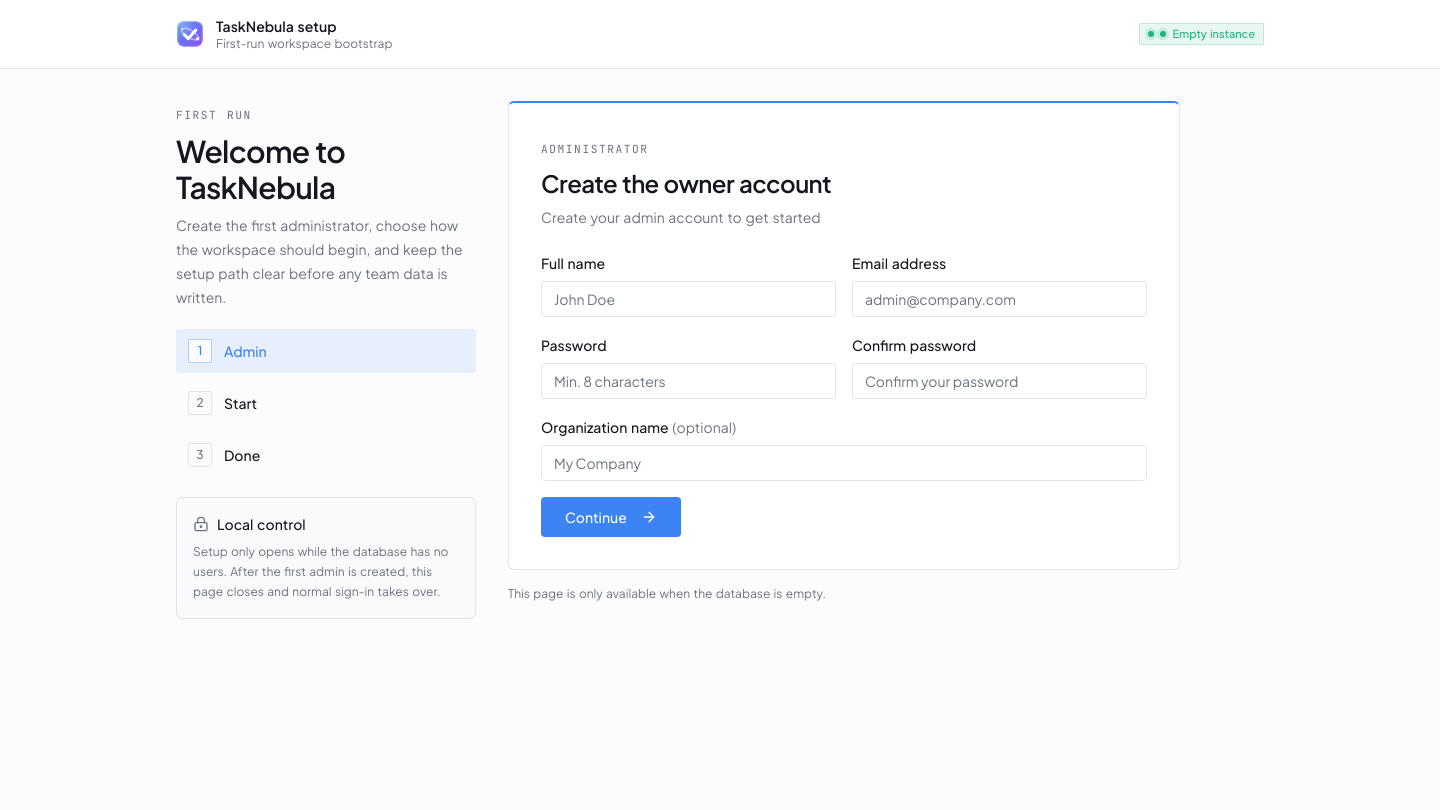
Test: SetupPage › shows an error when passwords do not match
The image size is (1440, 810).
Step 1. Type "Ada Lovelace" into the field labelled "Full name" → [688, 299], box x1=541 y1=281 x2=836 y2=317
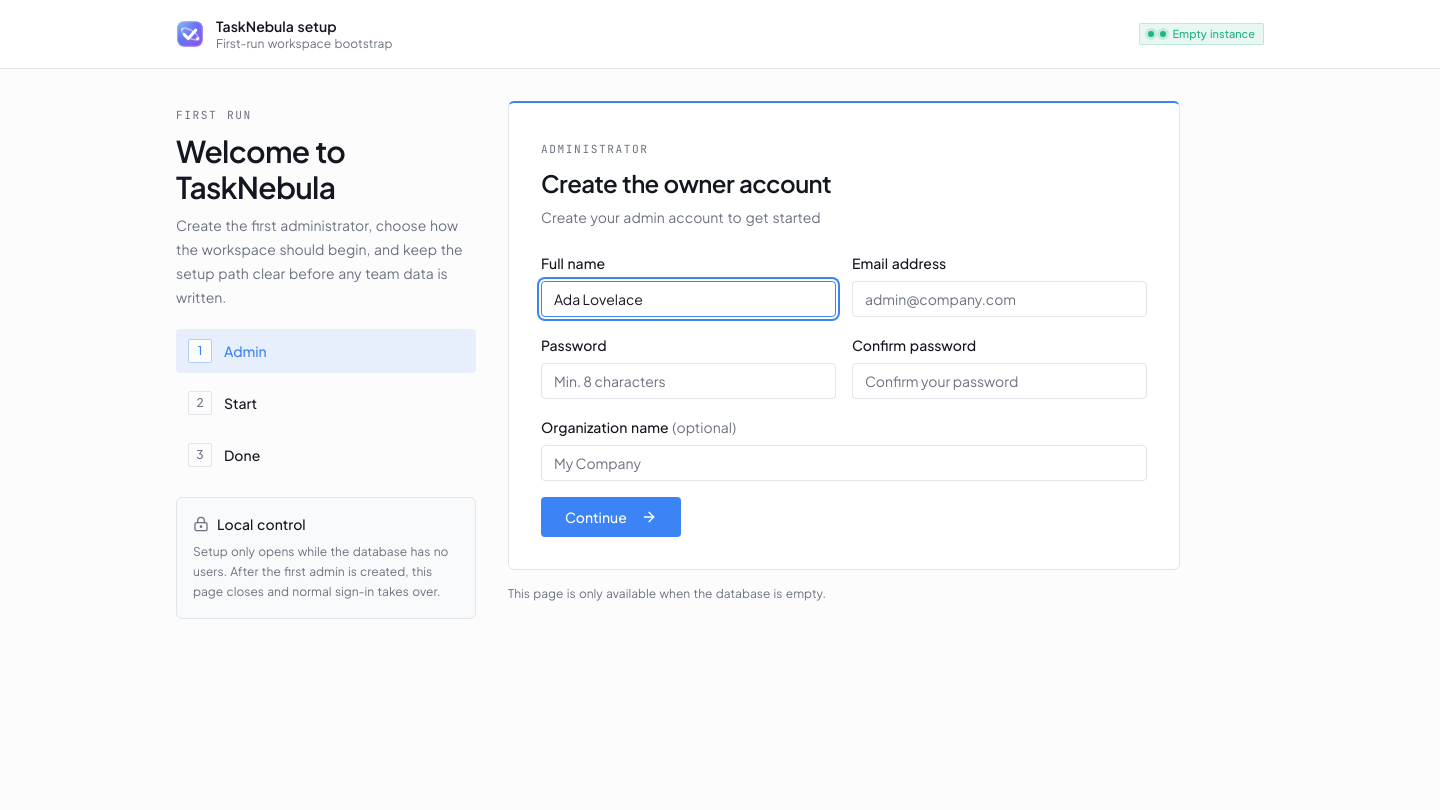
Step 2. Type "ada@example.com" into the field labelled "Email address" → [1000, 299], box x1=852 y1=281 x2=1147 y2=317
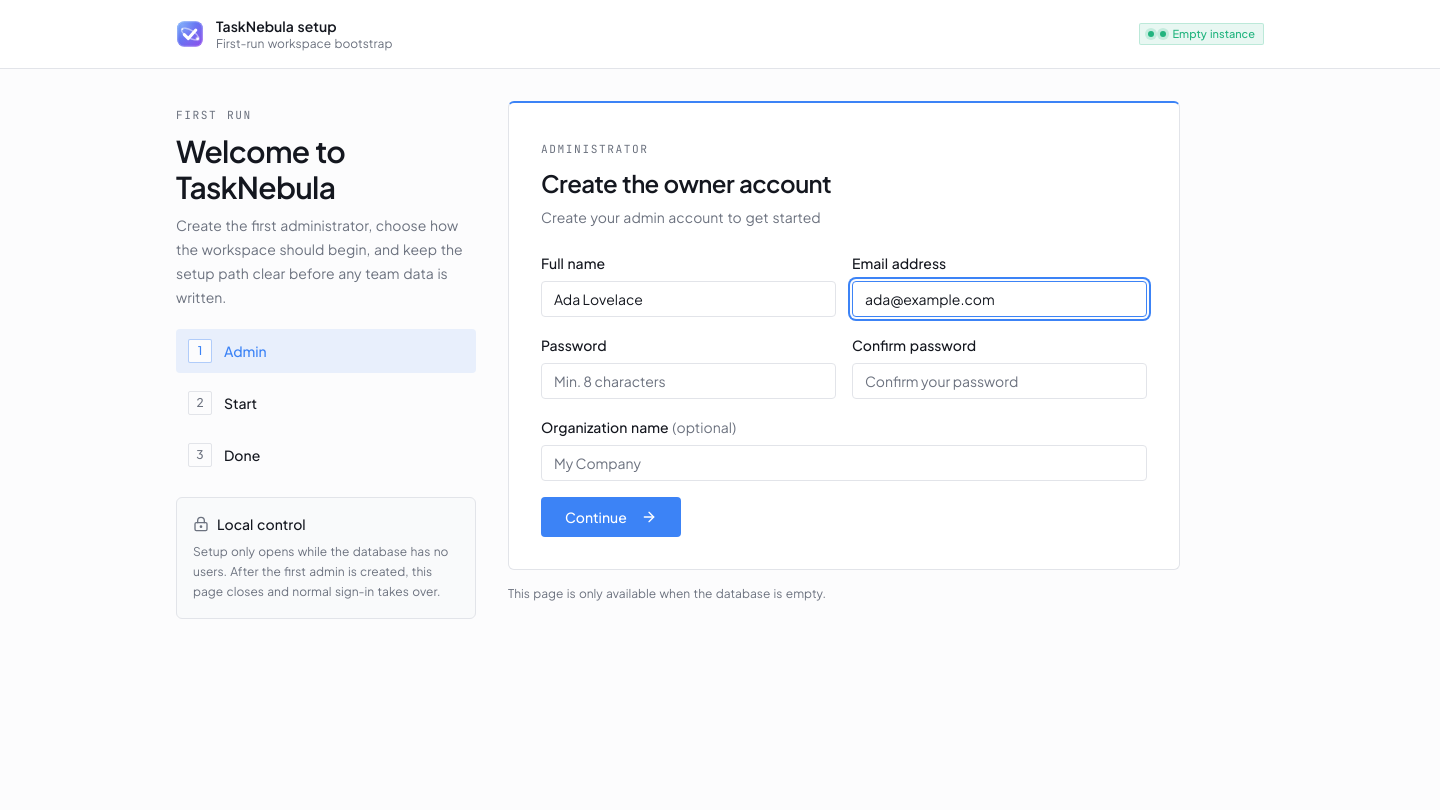
Step 3. Type "password1" into the password field labelled "Password" → [688, 381], box x1=541 y1=363 x2=836 y2=399
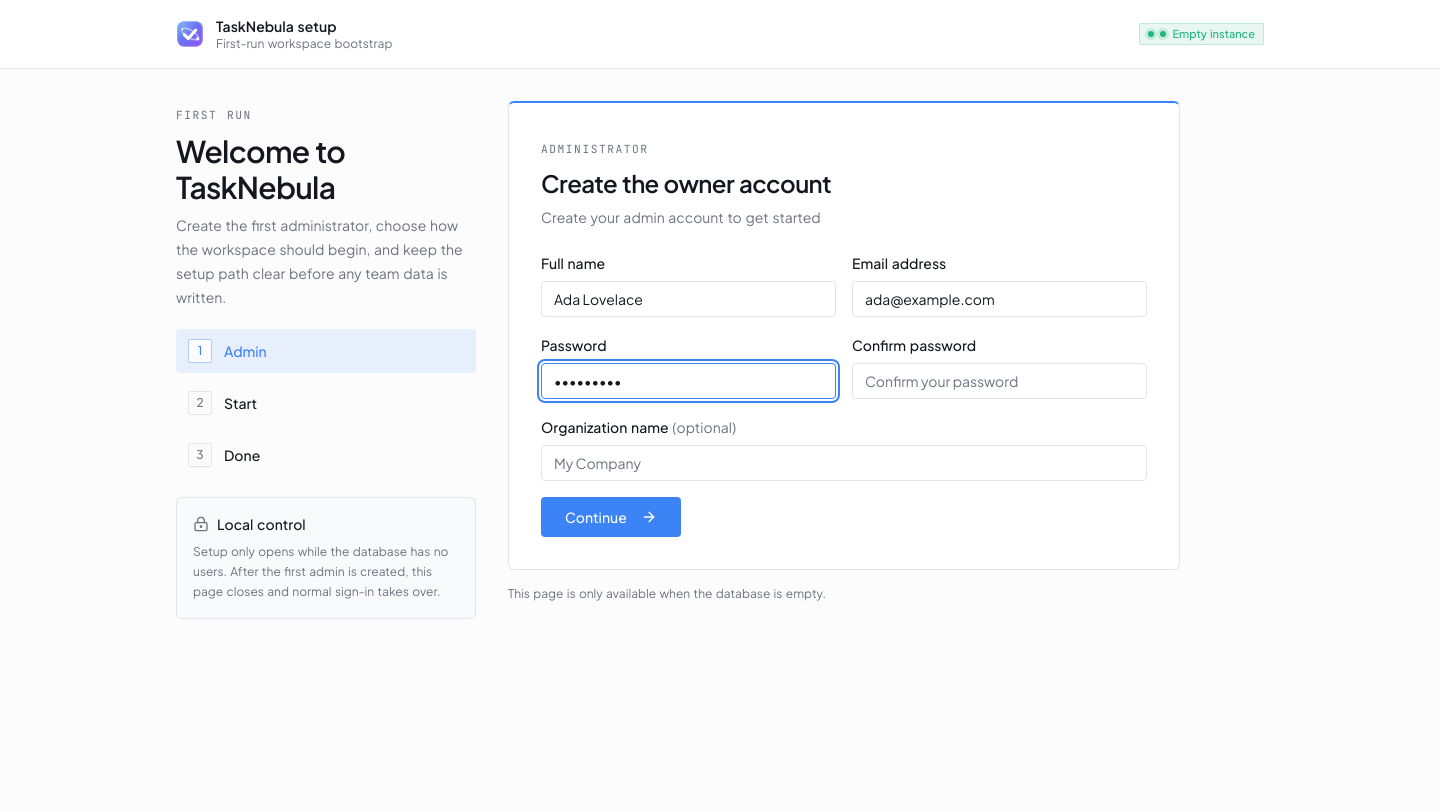
Step 4. Type "different2" into the password field labelled "Confirm password" → [1000, 381], box x1=852 y1=363 x2=1147 y2=399
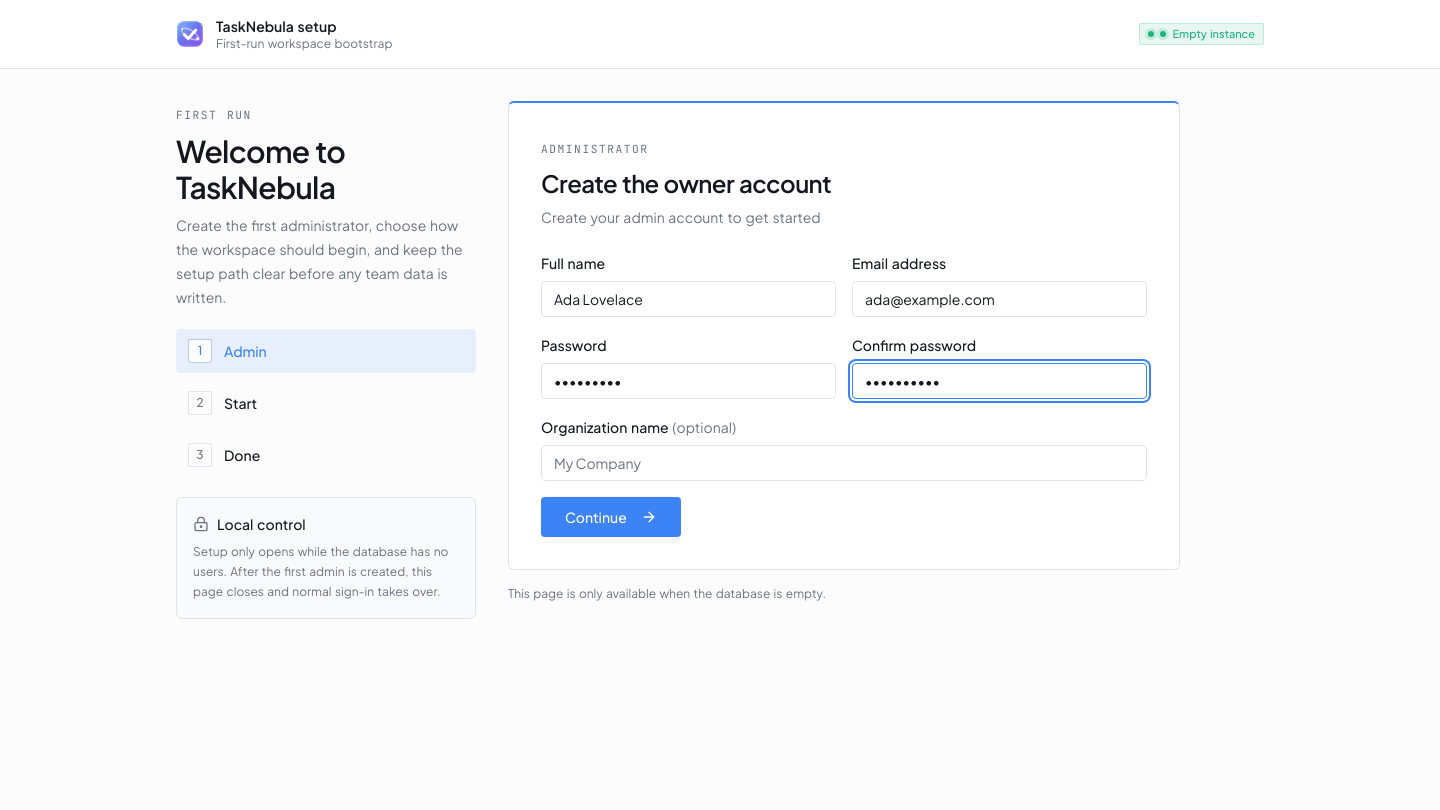
Step 5. Click the button "Continue" → [611, 517], box x1=541 y1=497 x2=681 y2=537
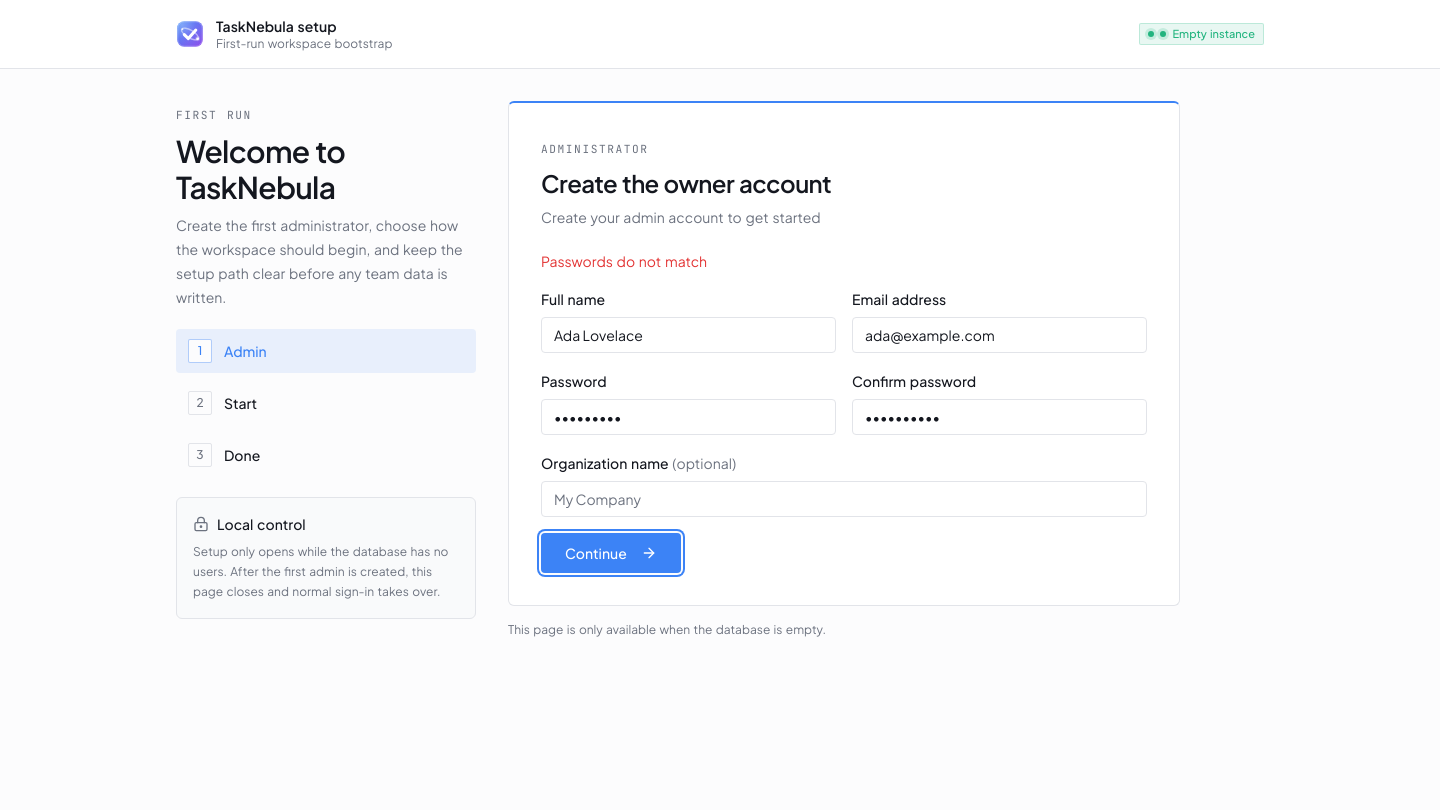
Now the message reads "Passwords do not match", box x1=541 y1=252 x2=707 y2=270
